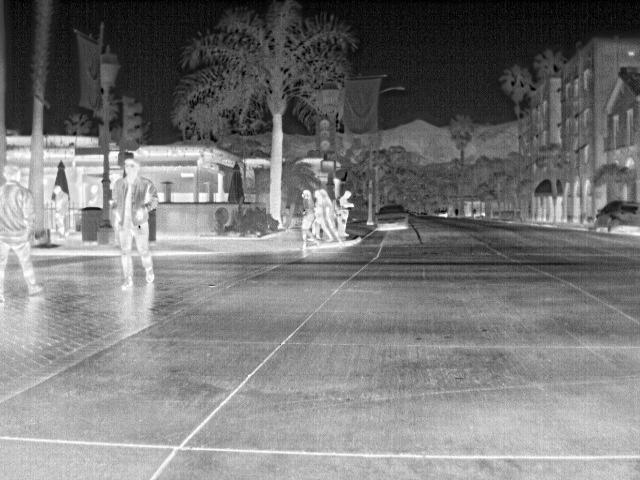car: (592, 198, 639, 232), (309, 190, 335, 242), (374, 202, 414, 232)
person: (112, 156, 161, 290), (4, 162, 43, 296), (52, 184, 74, 233), (299, 186, 317, 243), (339, 188, 356, 237)
